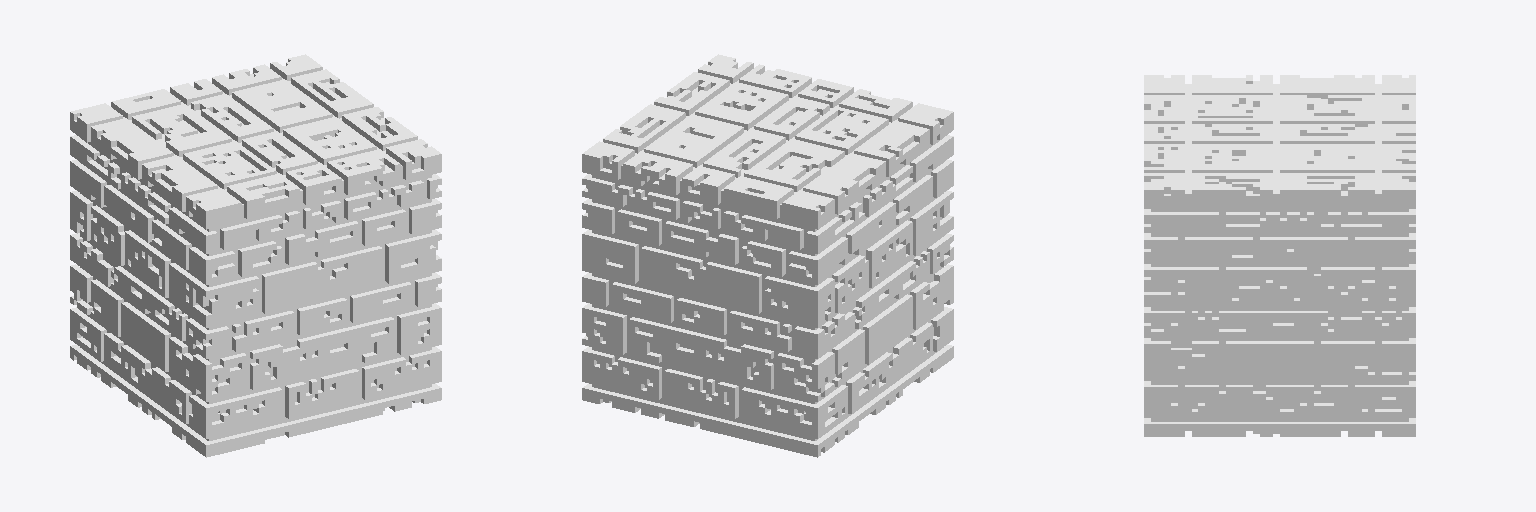
Rendered from стена3.obj.
The picture shows the model from 3 angles: view 1: azimuth 30°, elevation 25°; view 2: azimuth 150°, elevation 25°; view 3: azimuth 270°, elevation 25°; orthographic projection.
Parts seen in each view (by area): view 1: object 1; view 2: object 1; view 3: object 1.
Part boxes in pixels (x1,y1,x2,y2): object 1: (70, 54, 441, 457); object 1: (582, 54, 953, 457); object 1: (1144, 75, 1415, 436).
Bounding box in the file's own units: 4 × 4 × 4.